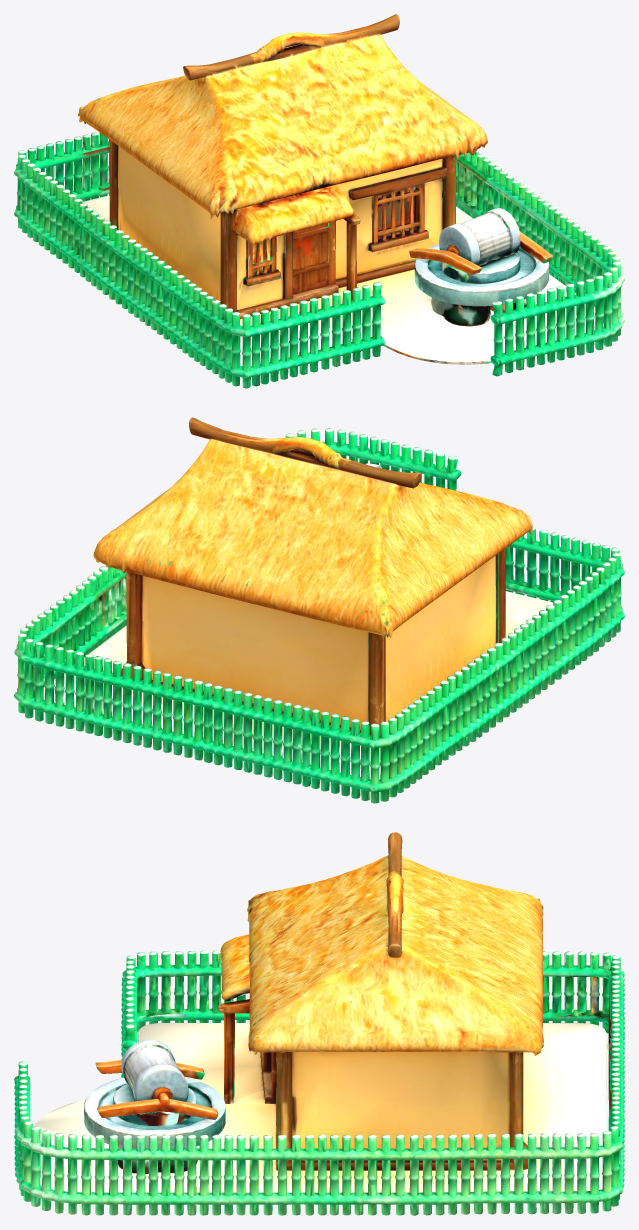
Rendered from qm_farm.glb.
3 views of the same model, one above another, from view 1: azimuth 30°, elevation 25°; view 2: azimuth 150°, elevation 25°; view 3: azimuth 270°, elevation 25° (orthographic). The views are drawn at different scales.
Visible parts, largest first — view 1: qm_farm; view 2: qm_farm; view 3: qm_farm.
Part boxes in pixels (bbox=[...]): qm_farm: bbox=[14, 14, 624, 388]; qm_farm: bbox=[14, 417, 624, 803]; qm_farm: bbox=[14, 832, 624, 1215].
Bounding box in the file's own units: 8.5 × 5 × 11.44.
1 material, 1 textured.
